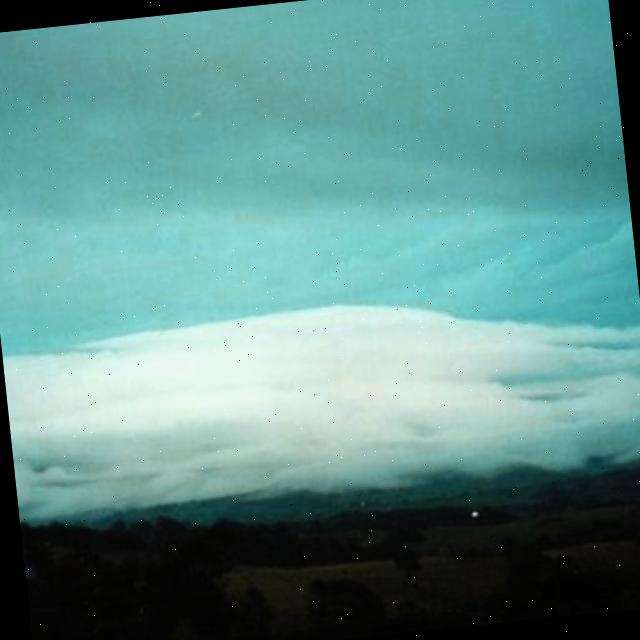Ns: (1, 71, 640, 505)
